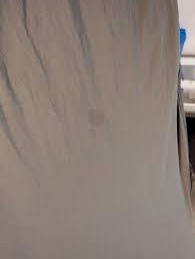oil: (79, 105, 111, 136)
